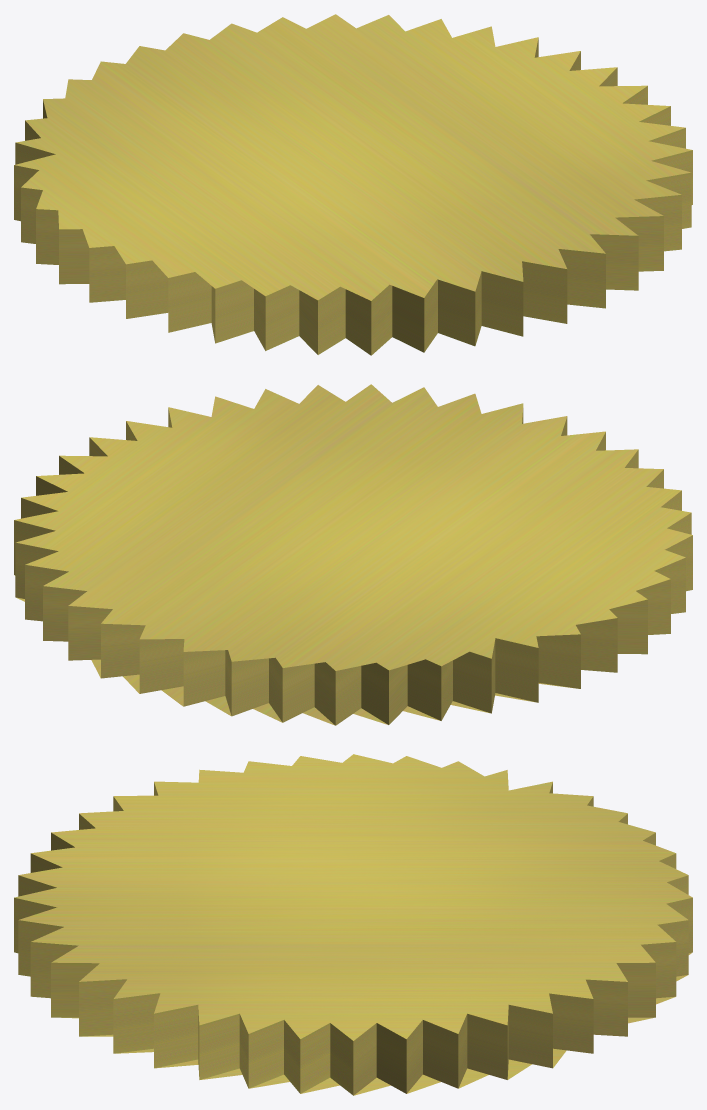
The model's file is ClockStraightFacet4Spoke040.fbx.
3 views of the same model, one above another, from view 1: azimuth 30°, elevation 25°; view 2: azimuth 150°, elevation 25°; view 3: azimuth 270°, elevation 25° (orthographic).
Parts seen in each view (by area): view 1: ClockStraightFacet4Spoke040; view 2: ClockStraightFacet4Spoke040; view 3: ClockStraightFacet4Spoke040.
Boxes of the visible parts, x1,y1,x2,y2 form: ClockStraightFacet4Spoke040: (14,14,692,355); ClockStraightFacet4Spoke040: (14,384,692,725); ClockStraightFacet4Spoke040: (14,754,692,1095).
Bounding box in the file's own units: 221 × 19.69 × 221.
